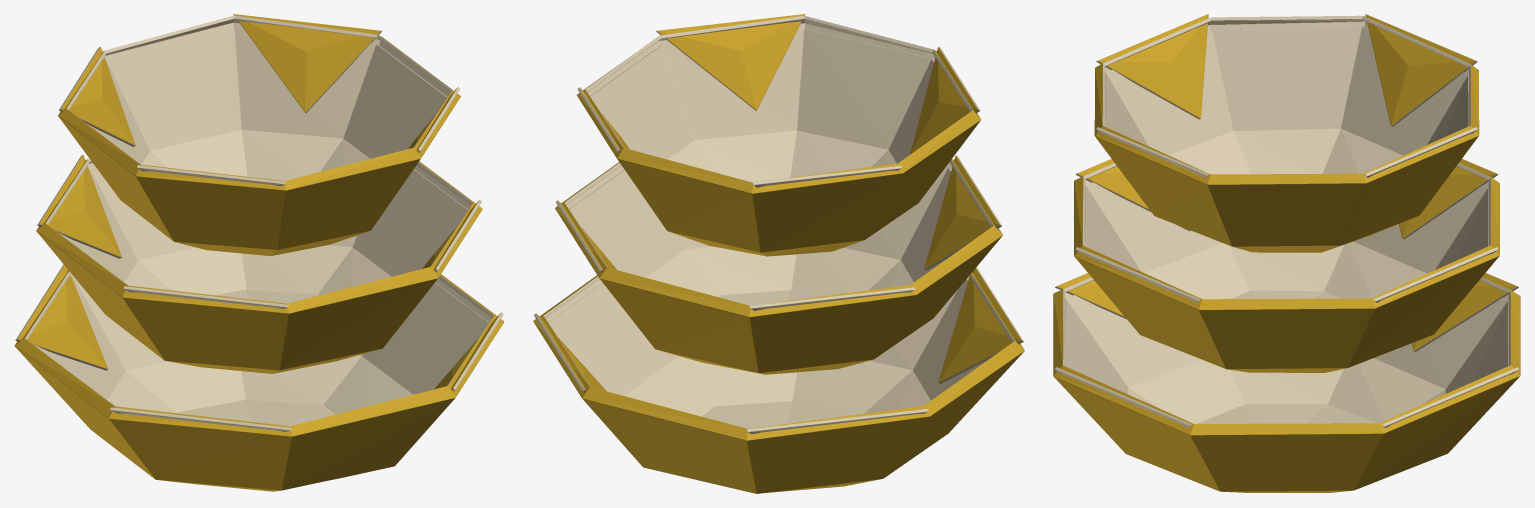
The model's file is achievement-half-grand.glb.
The picture shows the model from 3 angles, left to right: view 1: azimuth 30°, elevation 25°; view 2: azimuth 150°, elevation 25°; view 3: azimuth 270°, elevation 25°; orthographic projection. The views are drawn at different scales.
Visible parts, largest first — view 1: achievement-half-grand; view 2: achievement-half-grand; view 3: achievement-half-grand.
Boxes of the visible parts, left/top/right/bottom form: achievement-half-grand: left=14, top=14, right=504, bottom=491; achievement-half-grand: left=533, top=14, right=1024, bottom=493; achievement-half-grand: left=1053, top=14, right=1520, bottom=492.
Size of the model in its own units: 1.56 by 1.33 by 1.56.
